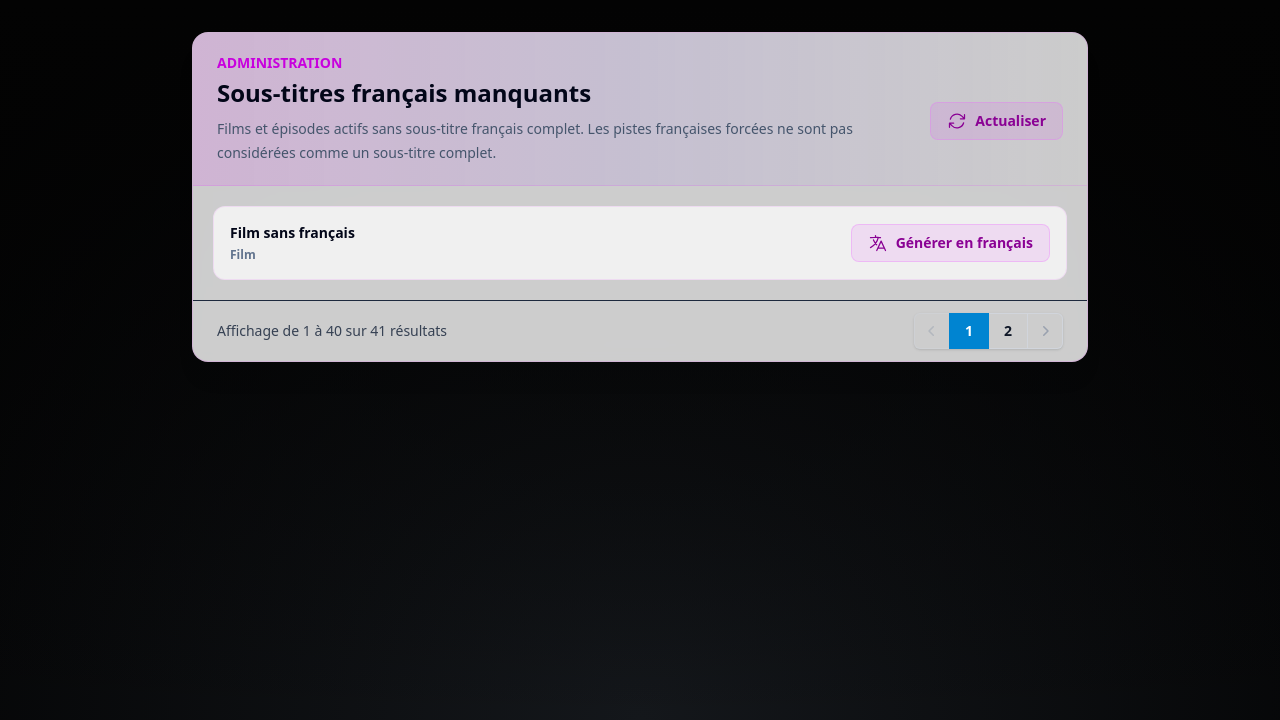
Test: liste 40 vidéos par page et planifie le français
The width and height of the screenshot is (1280, 720).
Expected: the text "Film sans français" is shown, [230,223,355,242]
Click the button "Générer en français" at (950, 243), box [851,224,1050,262]
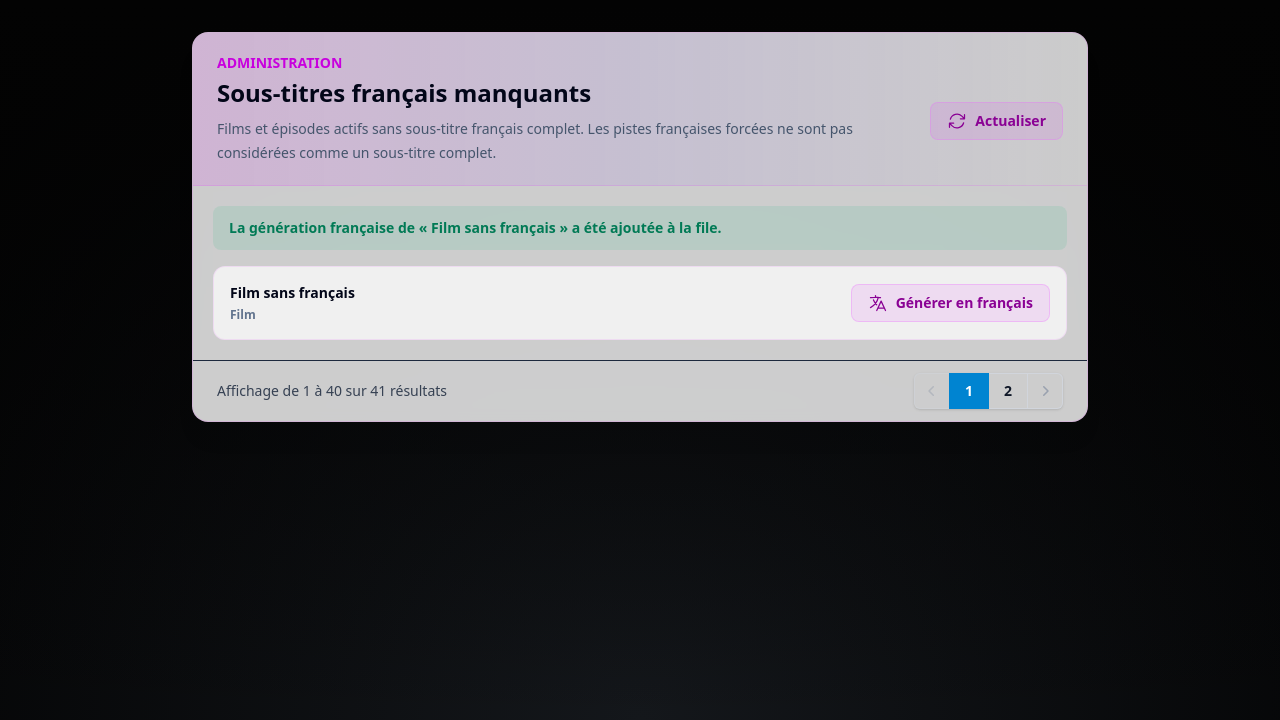
Expected: the text "ajoutée à la file" is shown, [229,218,722,237]
